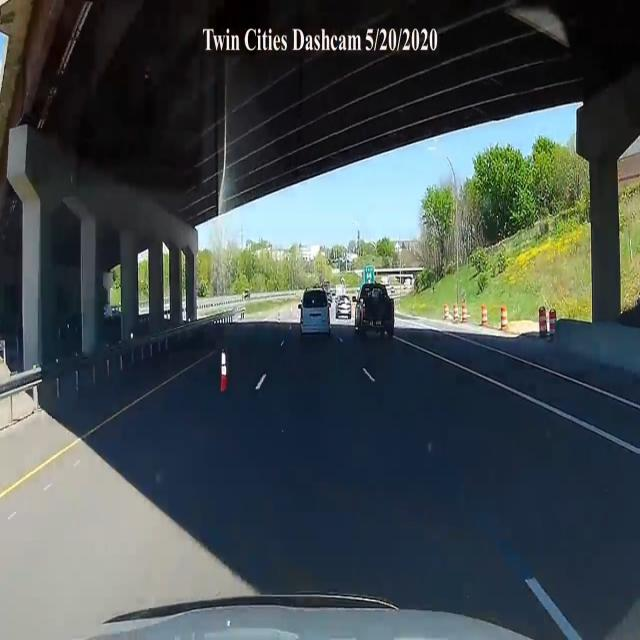cone: (217, 343, 236, 395)
